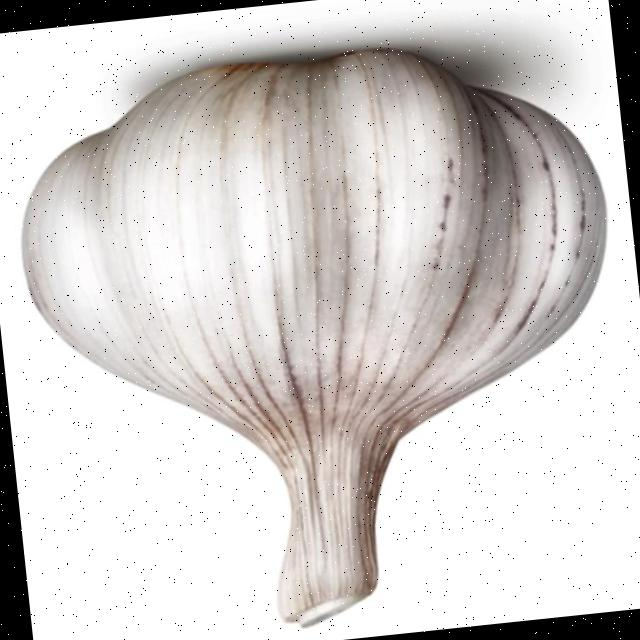garlic: (21, 49, 605, 624)
